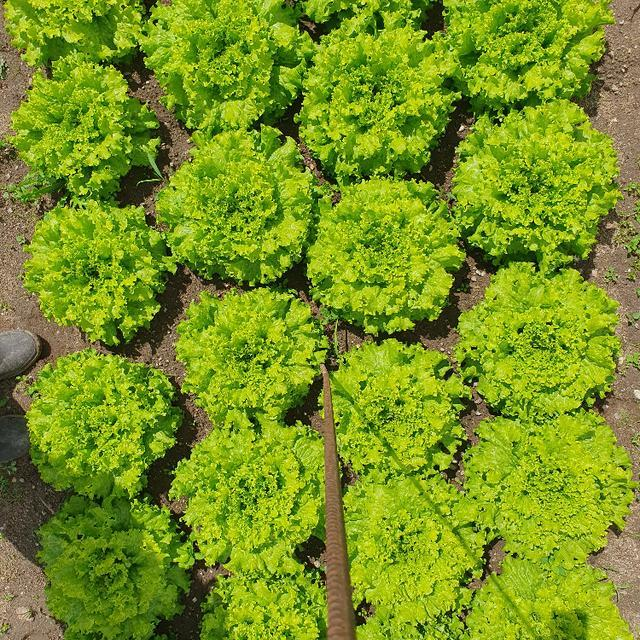Lettuce: (448, 100, 624, 268), (463, 405, 635, 572), (295, 23, 465, 184), (153, 125, 320, 287), (458, 262, 625, 422), (307, 175, 465, 340), (338, 465, 494, 627), (168, 410, 330, 563), (35, 493, 200, 640), (23, 348, 182, 498), (27, 192, 175, 350), (136, 0, 308, 133), (317, 333, 475, 477), (3, 62, 162, 200), (175, 286, 328, 422), (443, 2, 617, 108), (456, 551, 630, 640), (195, 558, 335, 640), (0, 0, 151, 71)
